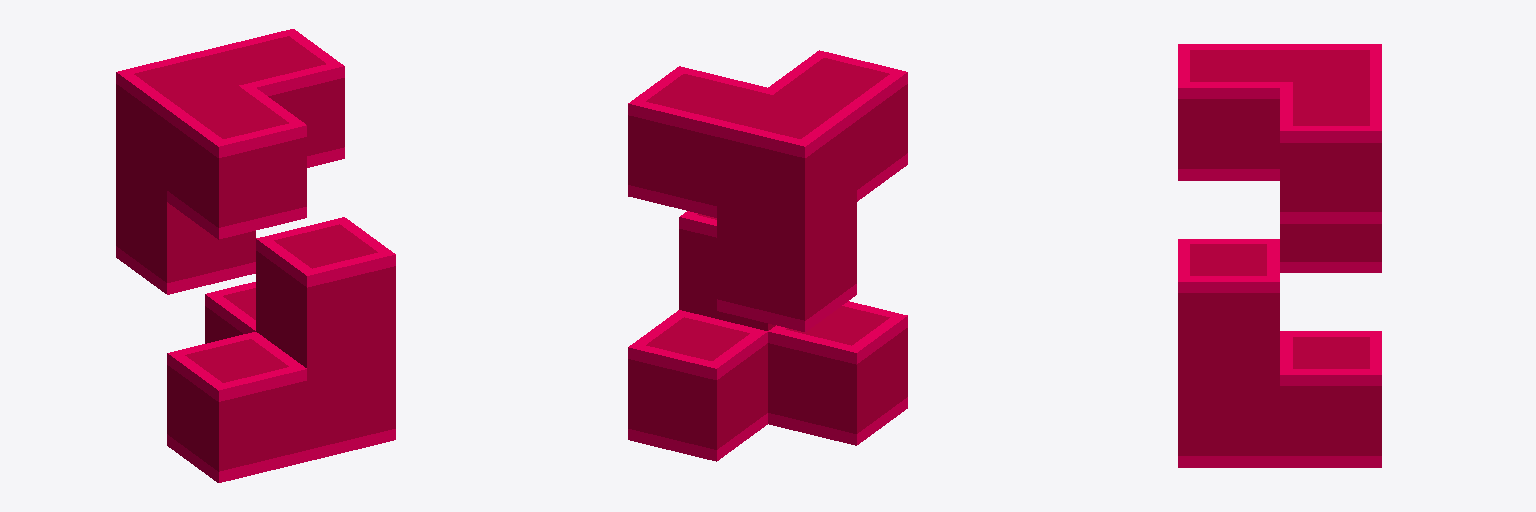
The picture shows the model from 3 angles: view 1: azimuth 30°, elevation 25°; view 2: azimuth 150°, elevation 25°; view 3: azimuth 270°, elevation 25°; orthographic projection.
Parts seen in each view (by area): view 1: CuboDoor; view 2: CuboDoor; view 3: CuboDoor.
Part boxes in pixels (x1,y1,x2,y2): CuboDoor: (116, 29, 395, 482); CuboDoor: (628, 50, 907, 461); CuboDoor: (1178, 44, 1381, 467).
Size of the model in its own units: 16 by 29 by 16.
Materials: 1 (1 with a texture image).